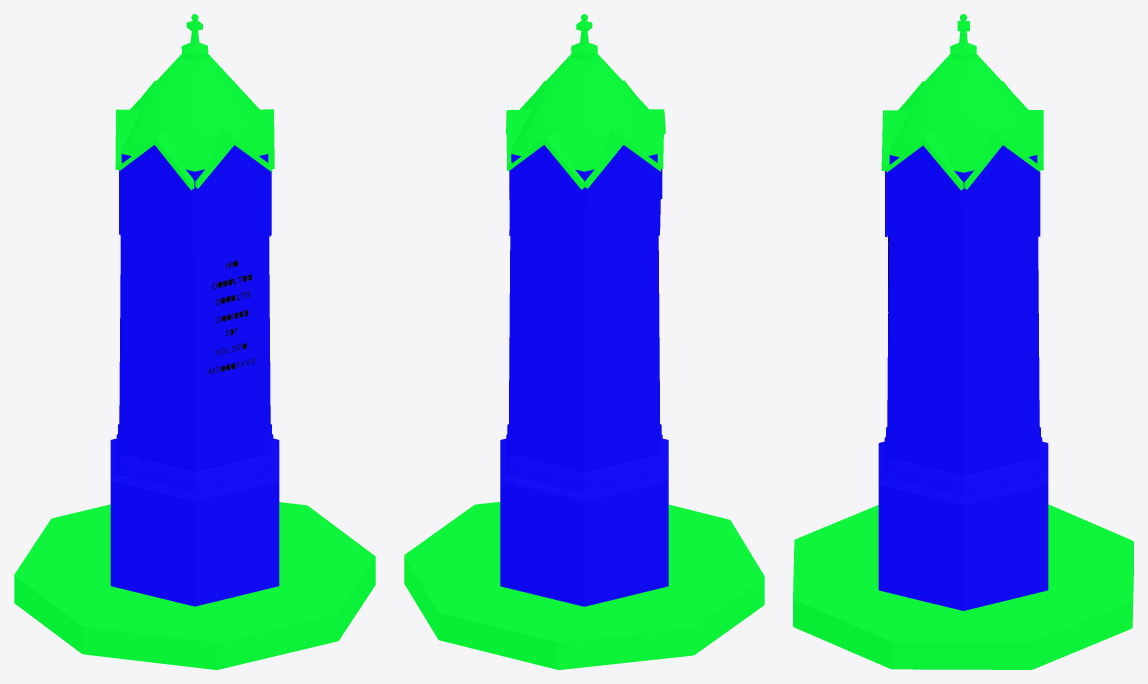
File: Denkmal.fbx
3 renders of one model, left to right at view 1: azimuth 30°, elevation 25°; view 2: azimuth 150°, elevation 25°; view 3: azimuth 270°, elevation 25°, orthographic.
Parts seen in each view (by area): view 1: Denkmal_OhneBoole2; view 2: Denkmal_OhneBoole2; view 3: Denkmal_OhneBoole2.
Part boxes in pixels (x1,y1,x2,y2): Denkmal_OhneBoole2: (14, 14, 375, 669); Denkmal_OhneBoole2: (404, 14, 764, 669); Denkmal_OhneBoole2: (793, 14, 1133, 669).
Bounding box in the file's own units: 278 × 525 × 278.
